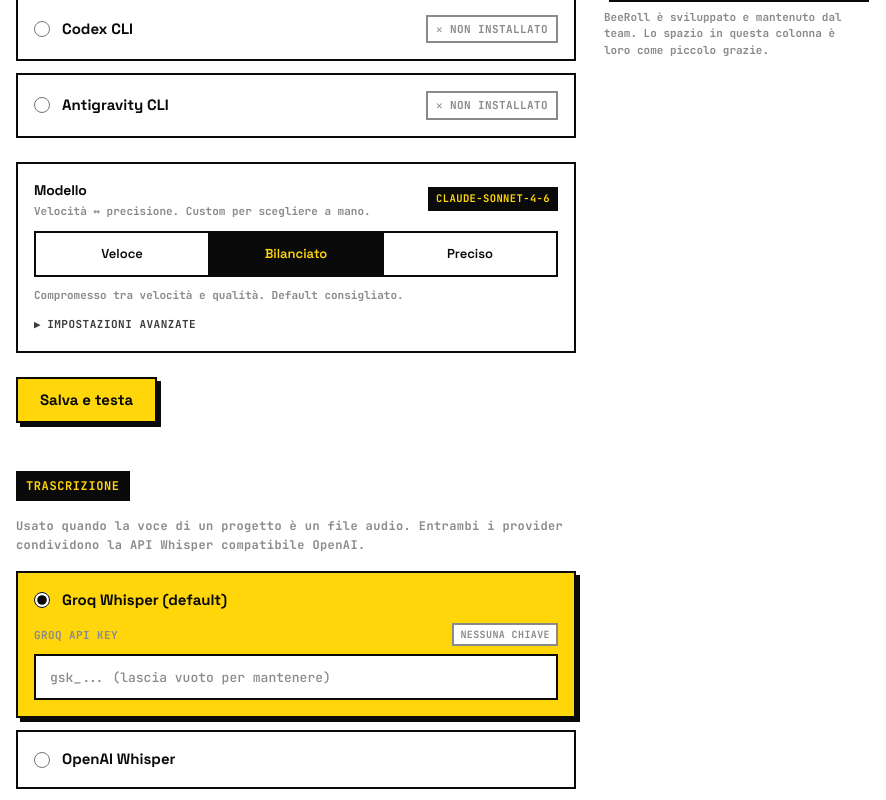
Test: SettingsPage › shows provider test error
(page scrolled)
Click the button "Salva e testa": (87, 400) [16,377,157,423]
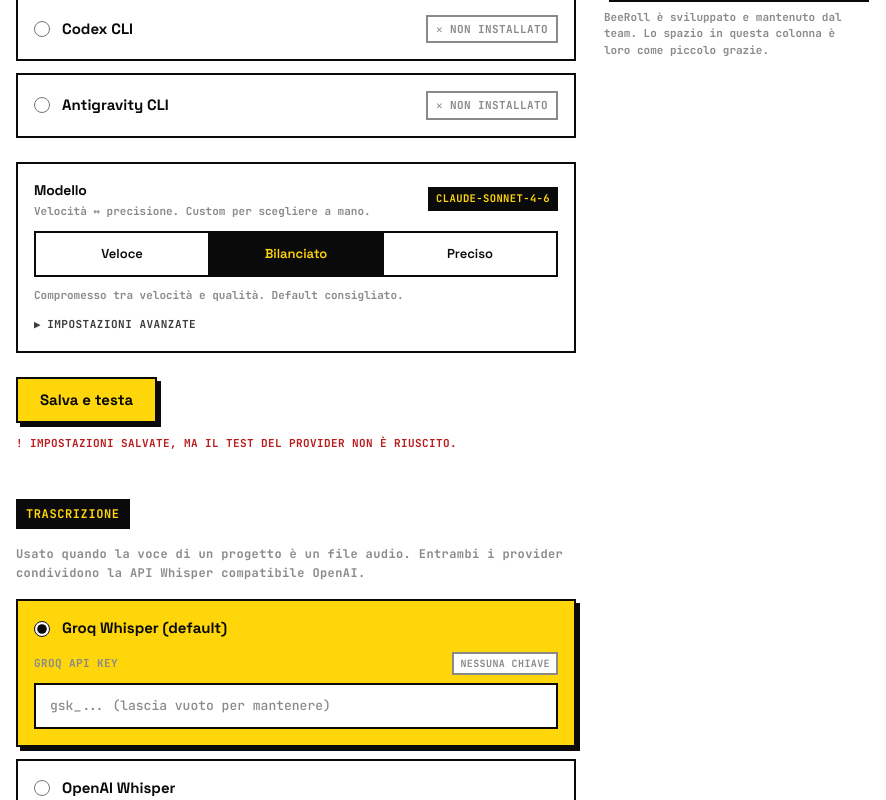
expect the text "Impostazioni salvate, ma il test del provider non è riuscito." is shown: met, box [30,436,457,450]
